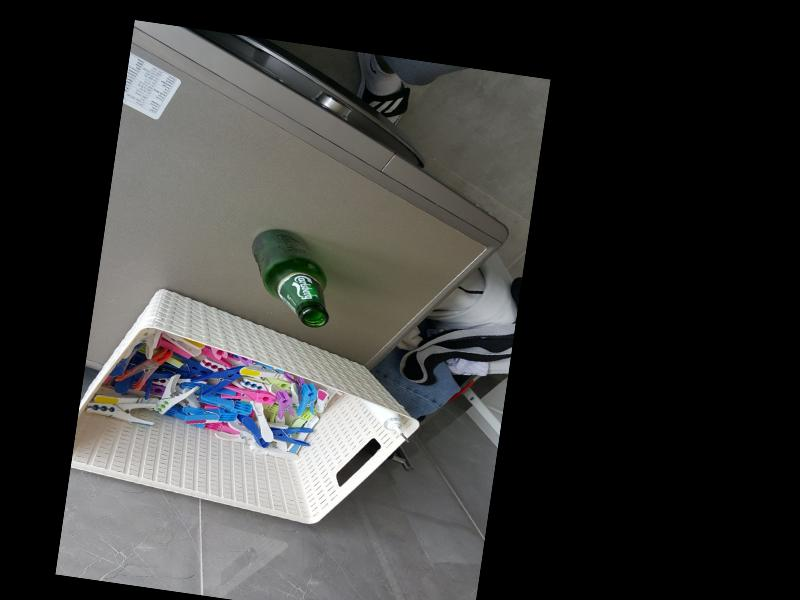Beer: (244, 224, 341, 327)
